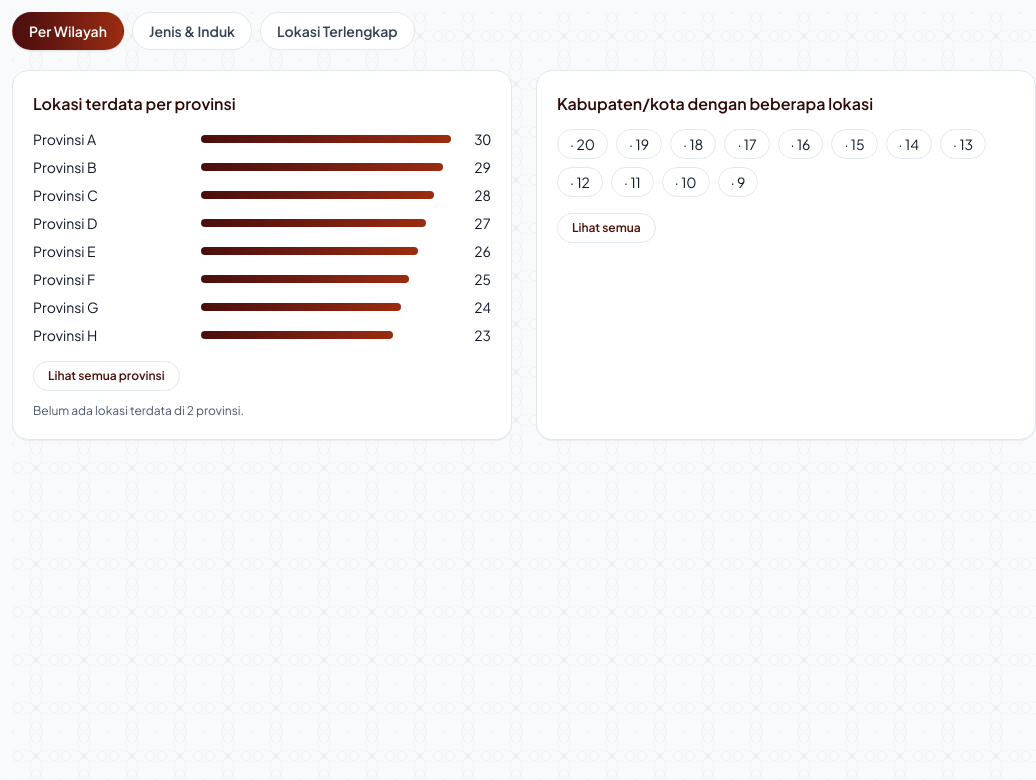
Test: RegionBreakdownTabs › shows Lokasi Terlengkap as a responsive grid linking to detail pages
Click the tab "Lokasi Terlengkap": [337, 31] box [260,12,415,50]
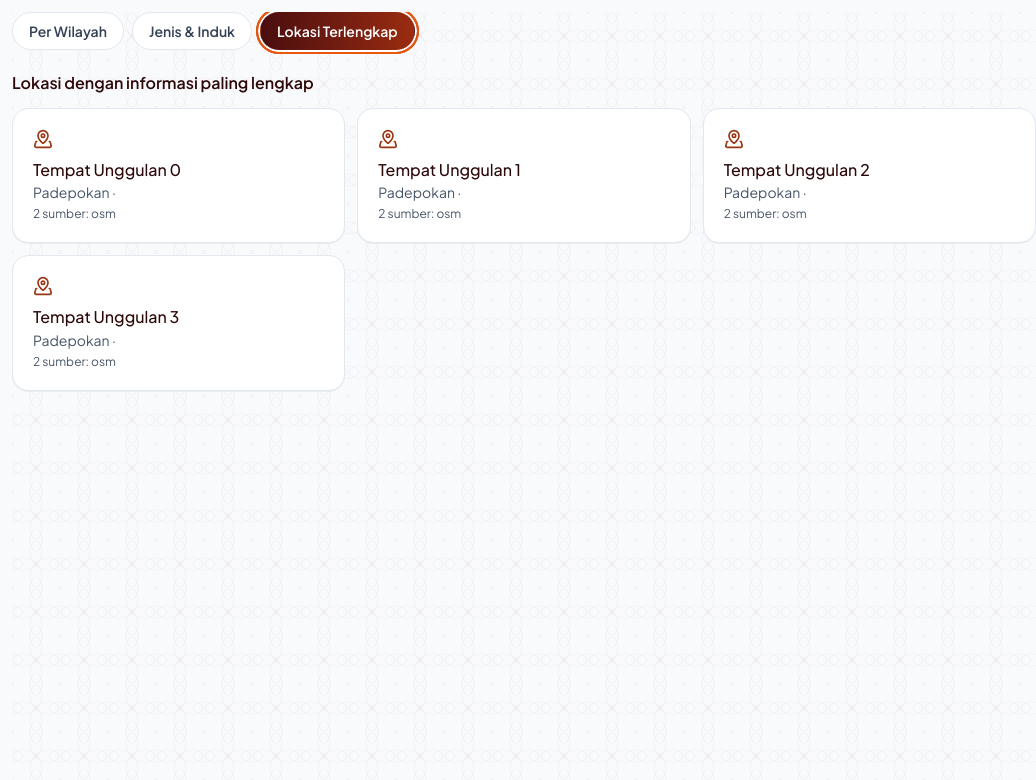
Expected: the number of links is 4, [33,159,181,180]; [378,159,521,180]; [724,159,870,180]; [33,306,179,327]
